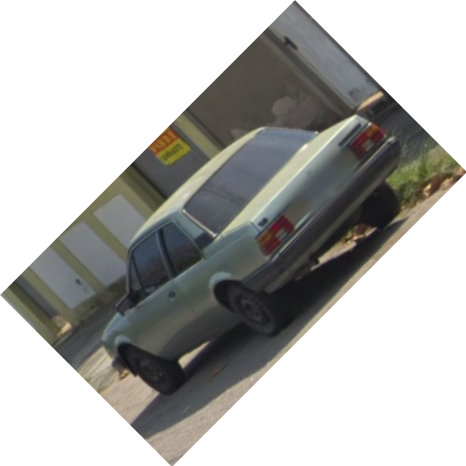car: (102, 115, 405, 397)
